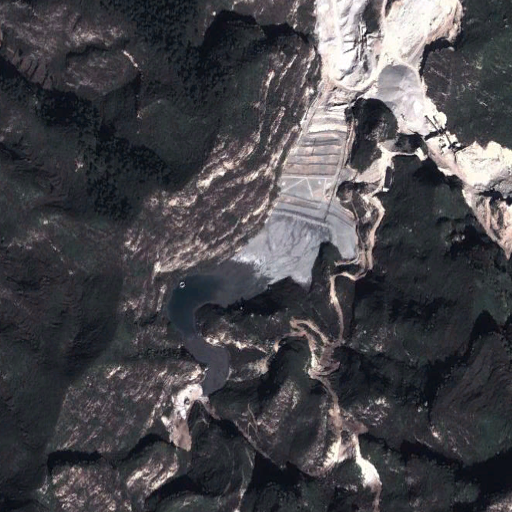tp: (164, 112, 357, 393)
